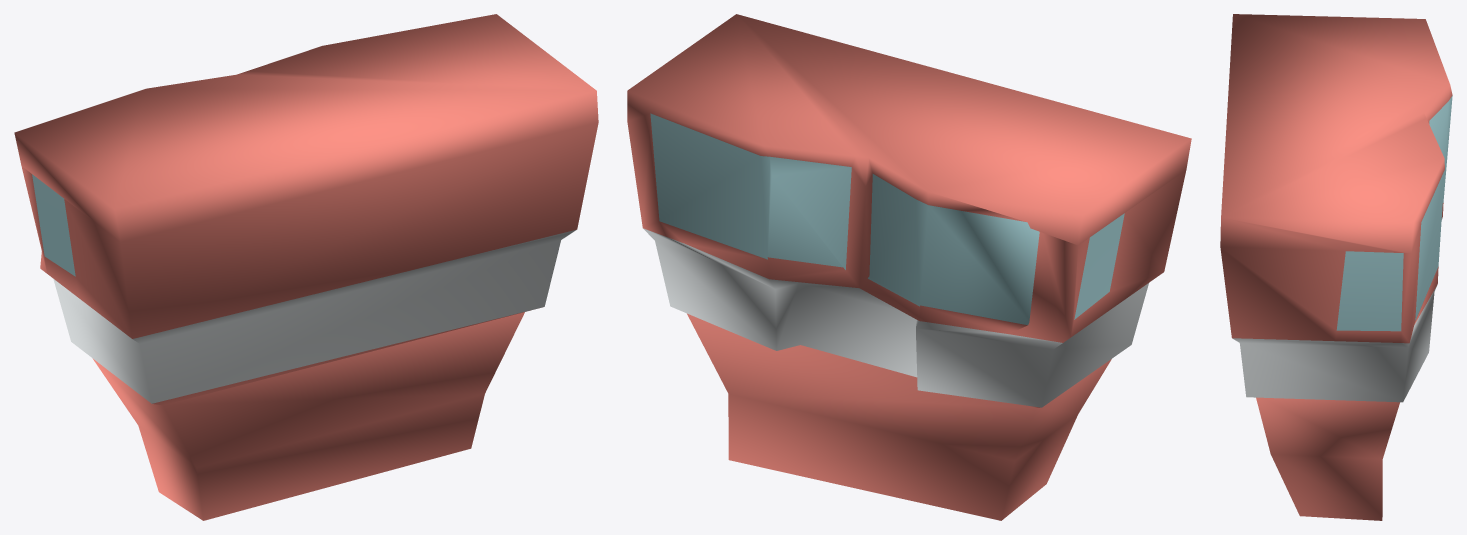
File: chest.gltf
The picture shows the model from 3 angles, left to right: view 1: azimuth 30°, elevation 25°; view 2: azimuth 150°, elevation 25°; view 3: azimuth 270°, elevation 25°; orthographic projection. The views are drawn at different scales.
Parts seen in each view (by area): view 1: group667077922; view 2: group667077922; view 3: group667077922.
Part boxes in pixels (x1,y1,x2,y2): group667077922: (14,14,598,520); group667077922: (627,14,1191,520); group667077922: (1220,14,1452,520).
Size of the model in its own units: 0.4022 by 0.2986 by 0.1849.
